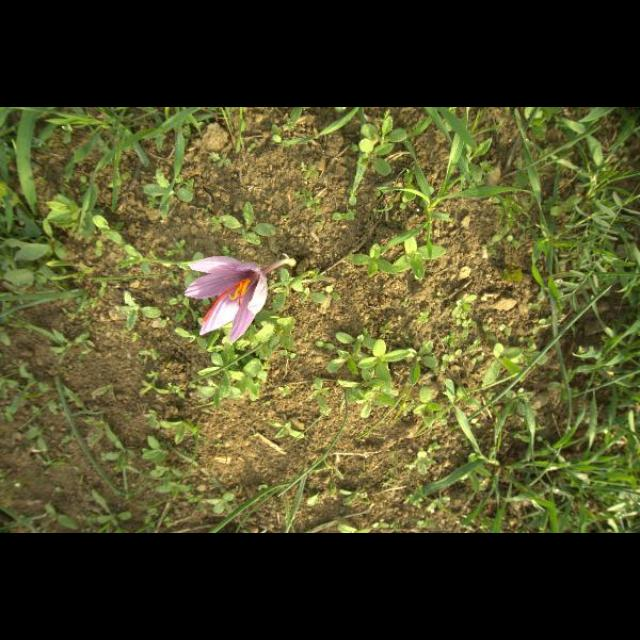flower: (185, 258, 268, 344)
